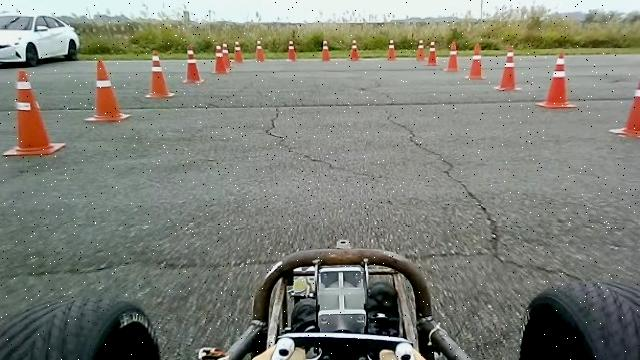red cone: (1, 68, 63, 156), (82, 58, 130, 122), (607, 60, 640, 137), (534, 51, 578, 108), (144, 50, 175, 98), (494, 45, 522, 91), (182, 44, 204, 83), (464, 42, 486, 79), (211, 45, 229, 73), (445, 40, 461, 71), (425, 41, 439, 65)
